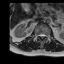CCS_normal: (41, 32, 43, 41)
LFS_stenosis: (45, 33, 47, 39)
LLS_normal: (43, 32, 45, 38)
RFS_stenosis: (37, 33, 39, 38)
RLS_normal: (39, 32, 41, 39)
